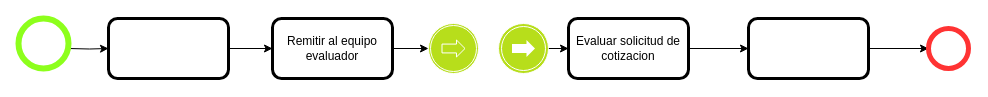
Some shapes in this 988 by 97 pixel diagram are drawn without their labels. The centre of each missing label's shape, as x and y in pixels:
"Procesar solicitud de cotizacion" belongs at (x=808, y=48).
"Recibir solicitud de cotizacion" belongs at (x=168, y=48).
